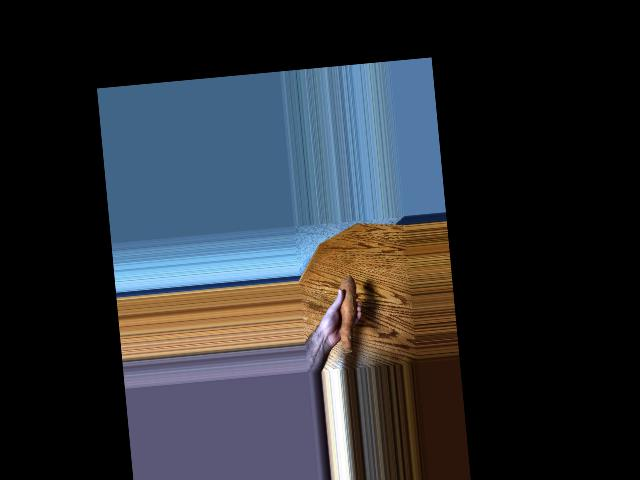sweet_potato: (333, 273, 364, 357)
